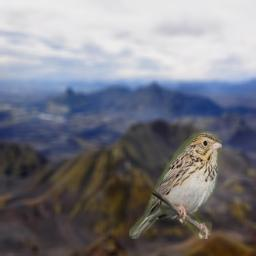Sparrow: (129, 131, 222, 239)
